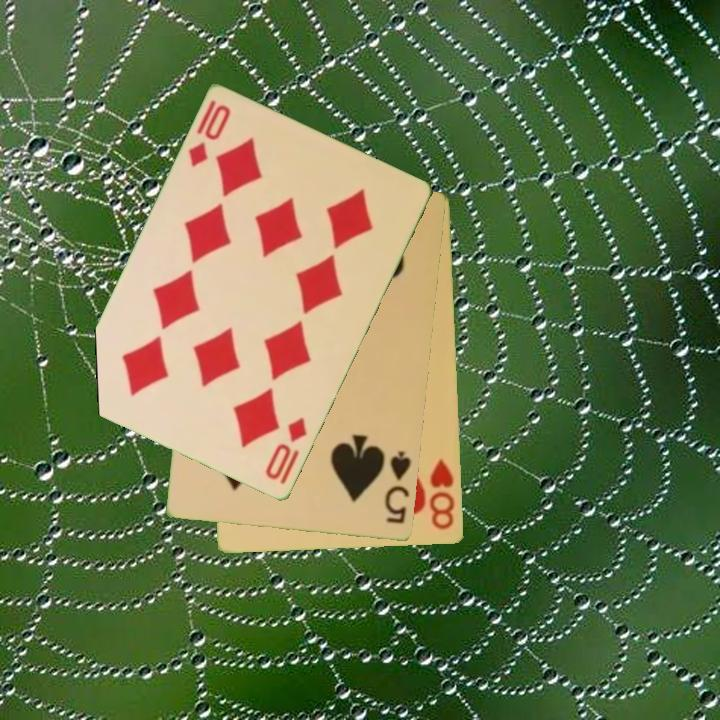10d: (185, 101, 234, 171), (262, 414, 310, 484)
5s: (382, 448, 414, 527)
8h: (427, 455, 458, 533)
